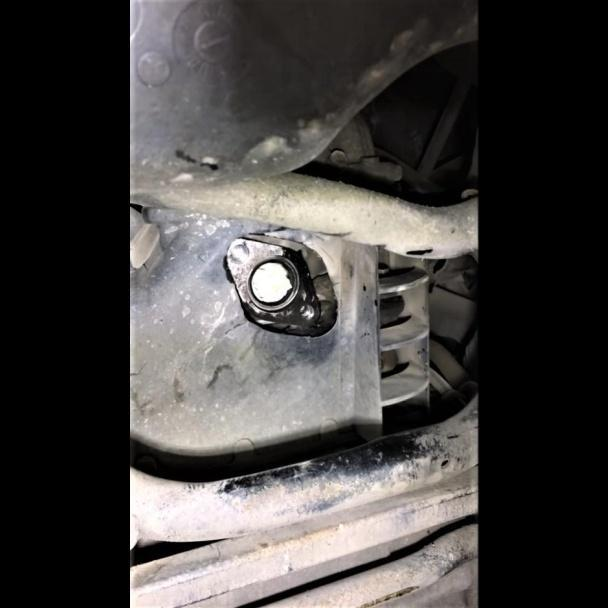hole: (227, 240, 252, 263), (298, 303, 316, 321)
